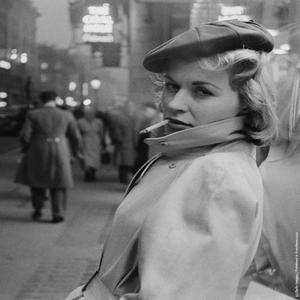cigarette: (136, 119, 171, 137)
